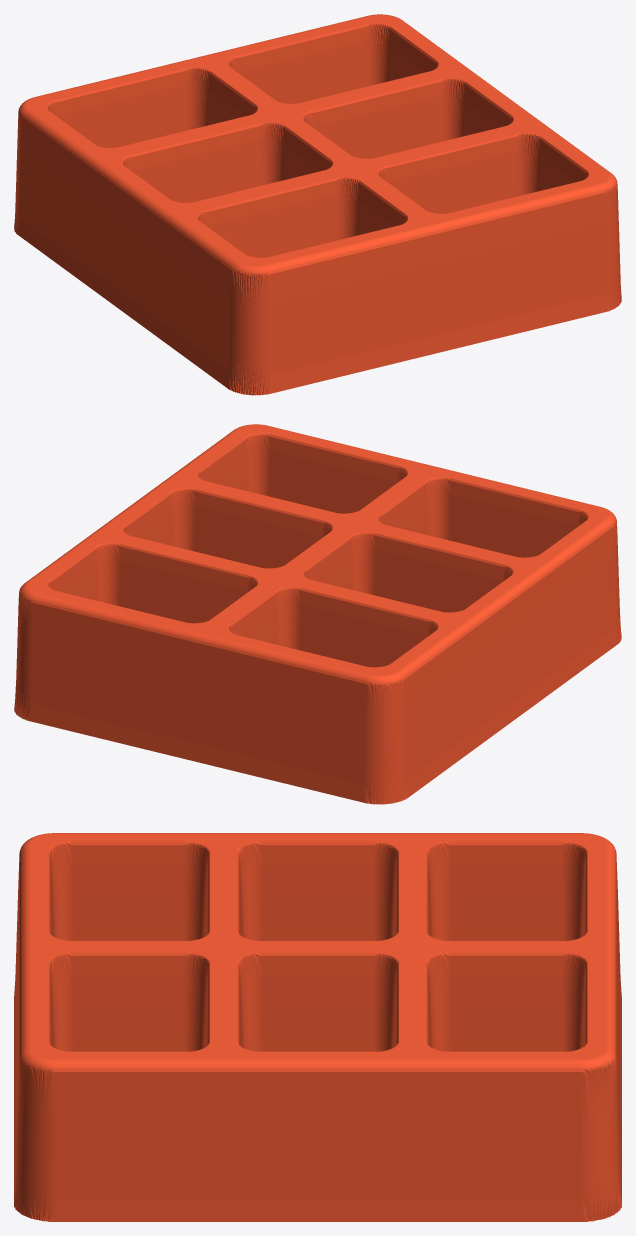
File: mold.glb
3 views of the same model, one above another, from view 1: azimuth 30°, elevation 25°; view 2: azimuth 150°, elevation 25°; view 3: azimuth 270°, elevation 25° (orthographic). The views are drawn at different scales.
Parts seen in each view (by area): view 1: geometry_0; view 2: geometry_0; view 3: geometry_0.
Part boxes in pixels (x1,y1,x2,y2): geometry_0: [14, 14, 621, 395]; geometry_0: [14, 424, 621, 804]; geometry_0: [14, 833, 621, 1221].
Bounding box in the file's own units: 0.1246 × 0.0378 × 0.1338.
